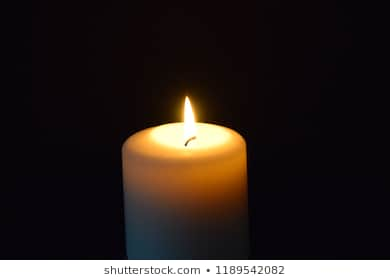Fire: (182, 93, 199, 141)
